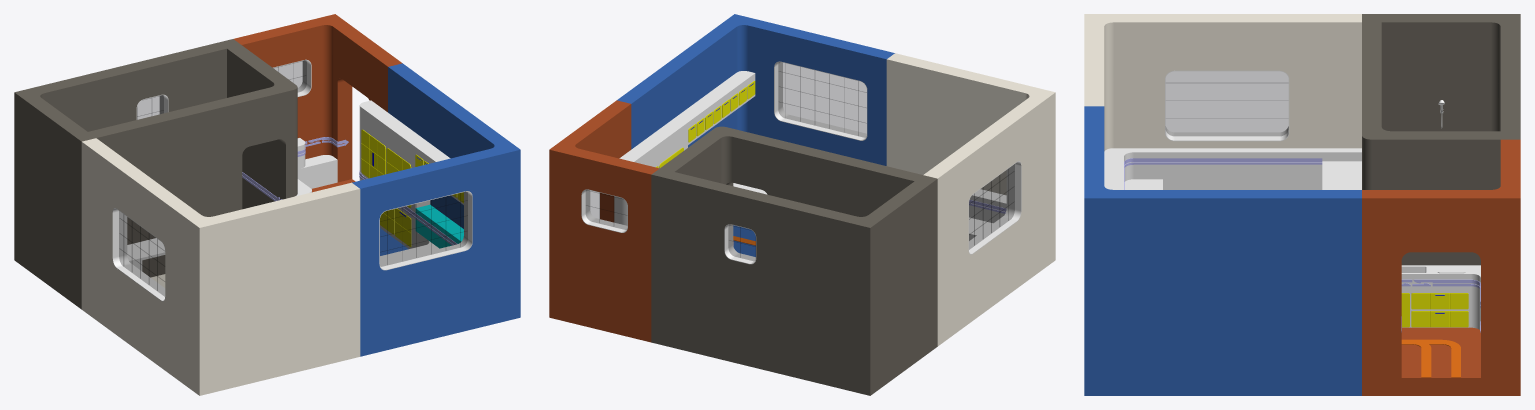
File: vision typeC OptionB.glb
The picture shows the model from 3 angles, left to right: view 1: azimuth 30°, elevation 25°; view 2: azimuth 150°, elevation 25°; view 3: azimuth 270°, elevation 25°; orthographic projection. The views are drawn at different scales.
Visible parts, largest first — view 1: 客厅墙, 厕所墙, 卧室墙, 厨房墙, 玻璃, 窗框（金属）, 衣柜，木制或者整体性强的材质, 柜门，区别于整体的柜子, 橱柜，木制或者整体性强的材质, 床15MM 软包边-皮质, 触摸板, 木板 (+1 smaller); view 2: 厕所墙, 客厅墙, 厨房墙, 卧室墙, 玻璃, 窗框（金属）, 衣柜，木制或者整体性强的材质, 柜门，区别于整体的柜子, 沙发15MM 软包边-皮质; view 3: 卧室墙, 客厅墙, 厕所墙, 厨房墙, 沙发15MM 软包边-皮质, 玻璃, 柜门，区别于整体的柜子, 橱柜，木制或者整体性强的材质, 触摸板, 窗框（金属）, 木板, PATH (+1 smaller).
Part boxes in pixels (bbox=[...]): 客厅墙: bbox=[81, 138, 360, 395]; 厕所墙: bbox=[14, 39, 297, 309]; 卧室墙: bbox=[352, 63, 520, 356]; 厨房墙: bbox=[234, 14, 402, 192]; 玻璃: bbox=[119, 60, 467, 296]; 窗框（金属）: bbox=[112, 59, 472, 301]; 衣柜，木制或者整体性强的材质: bbox=[359, 100, 463, 248]; 柜门，区别于整体的柜子: bbox=[361, 129, 463, 246]; 橱柜，木制或者整体性强的材质: bbox=[295, 138, 337, 196]; 床15MM 软包边-皮质: bbox=[415, 204, 463, 248]; 触摸板: bbox=[242, 137, 457, 245]; 木板: bbox=[127, 238, 165, 270]; 厕所墙: bbox=[651, 126, 937, 395]; 客厅墙: bbox=[886, 53, 1055, 346]; 厨房墙: bbox=[549, 100, 659, 342]; 卧室墙: bbox=[617, 14, 894, 256]; 玻璃: bbox=[586, 62, 1014, 260]; 窗框（金属）: bbox=[581, 61, 1021, 264]; 衣柜，木制或者整体性强的材质: bbox=[614, 71, 755, 225]; 柜门，区别于整体的柜子: bbox=[656, 81, 755, 168]; 沙发15MM 软包边-皮质: bbox=[969, 189, 1006, 241]; 卧室墙: bbox=[1084, 106, 1361, 395]; 客厅墙: bbox=[1084, 14, 1361, 151]; 厕所墙: bbox=[1362, 14, 1520, 265]; 厨房墙: bbox=[1362, 139, 1520, 395]; 沙发15MM 软包边-皮质: bbox=[1104, 148, 1361, 189]; 玻璃: bbox=[1166, 71, 1288, 135]; 柜门，区别于整体的柜子: bbox=[1401, 293, 1468, 327]; 橱柜，木制或者整体性强的材质: bbox=[1401, 265, 1480, 329]; 触摸板: bbox=[1124, 158, 1480, 332]; 窗框（金属）: bbox=[1165, 70, 1289, 141]; 木板: bbox=[1322, 161, 1361, 189]; PATH: bbox=[1401, 339, 1460, 377].
Bounding box in the file's own units: 6.6 × 3.3 × 6.6.
